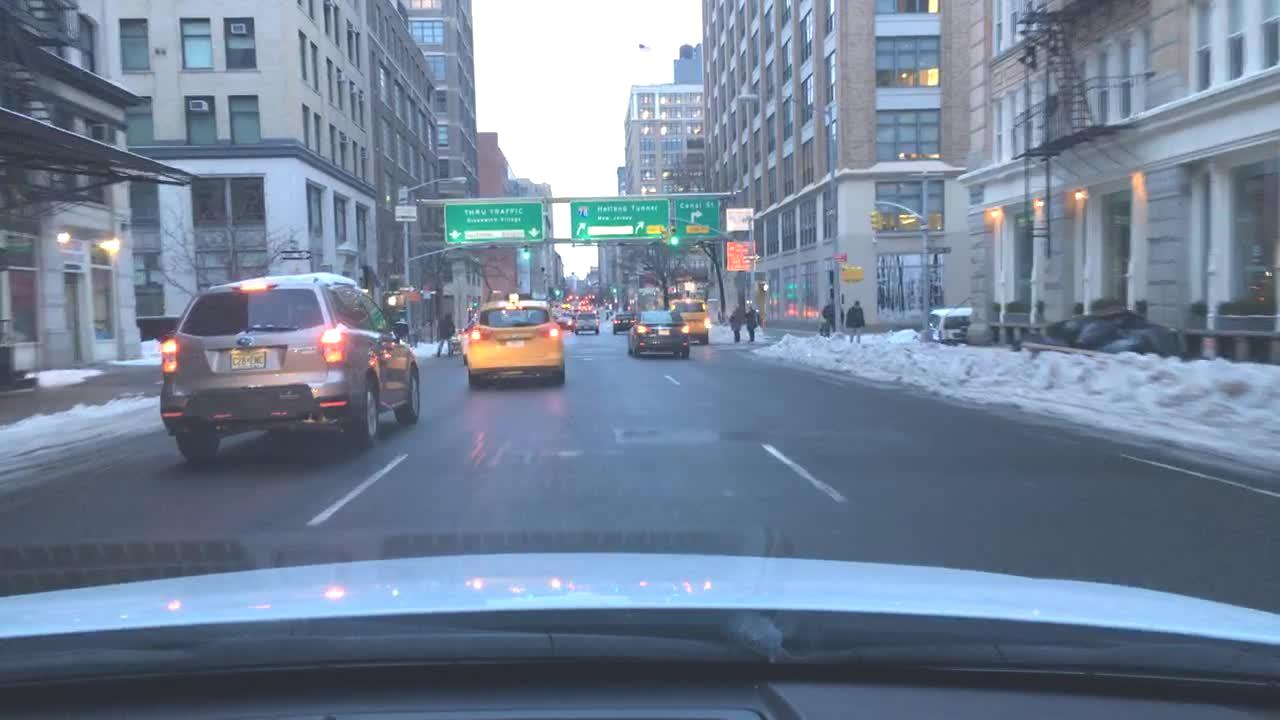subaru: (235, 334, 257, 350)
